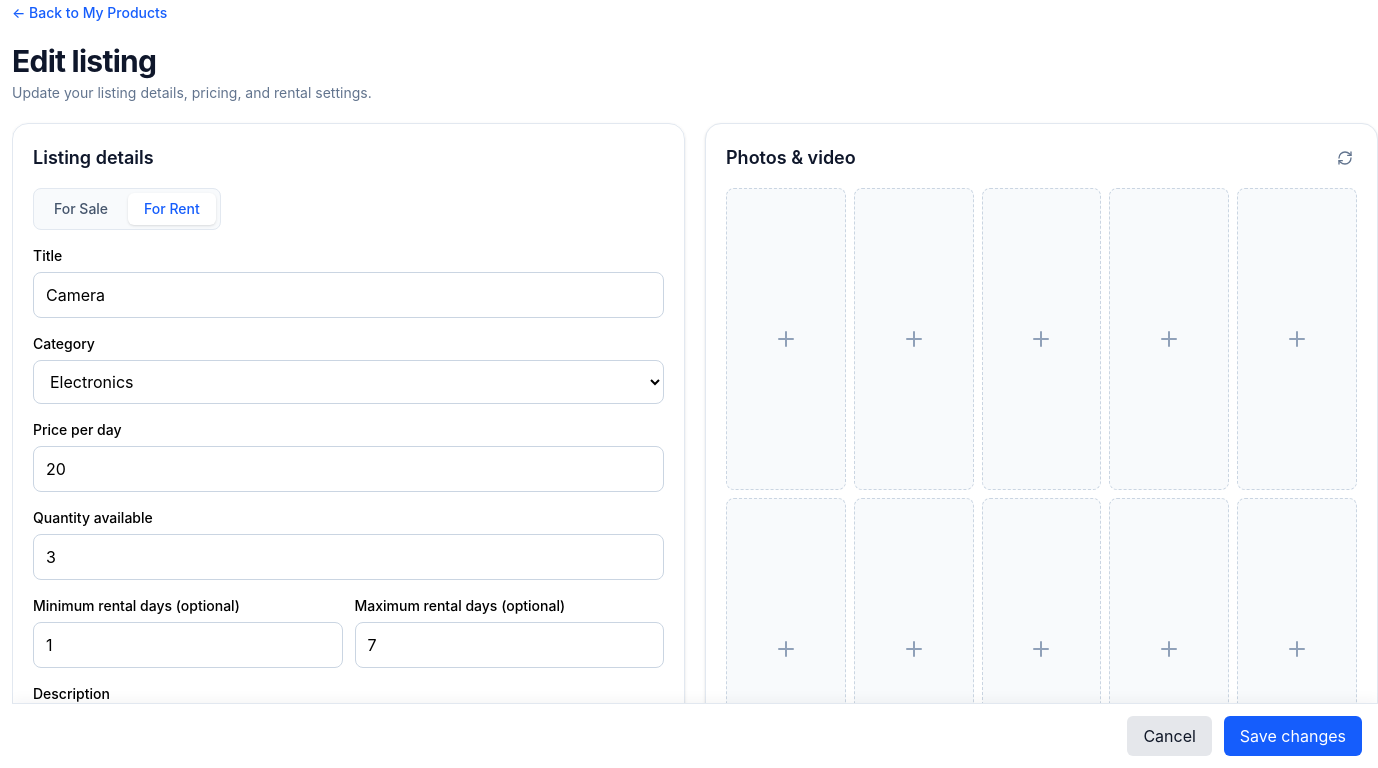
Scenario: shows an API failure without losing form edits
Replace the text in the field labelled "Title" with "Keep this edit" at [348, 295], box top-left (33, 272), bottom-right (664, 318)
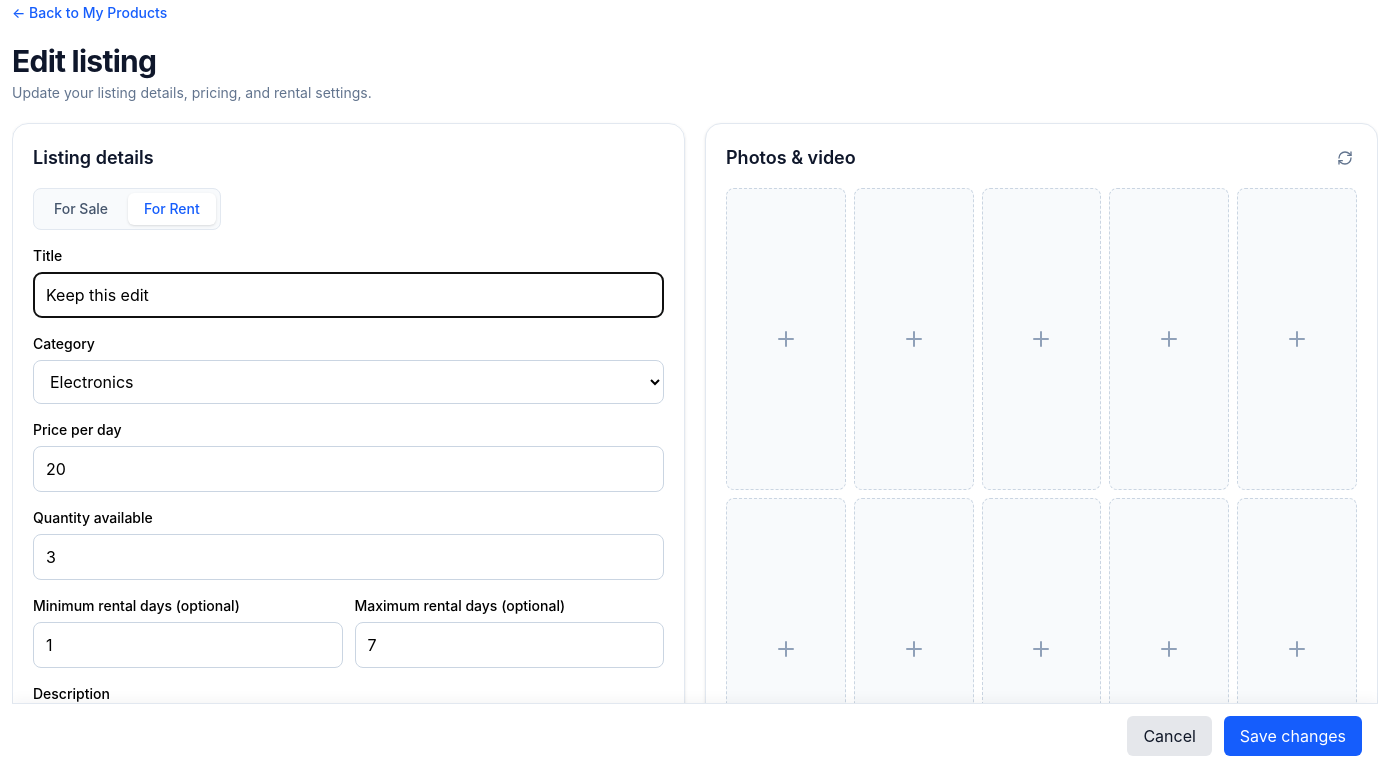
Click the button "Save changes" at [1293, 736], box top-left (1224, 716), bottom-right (1362, 756)
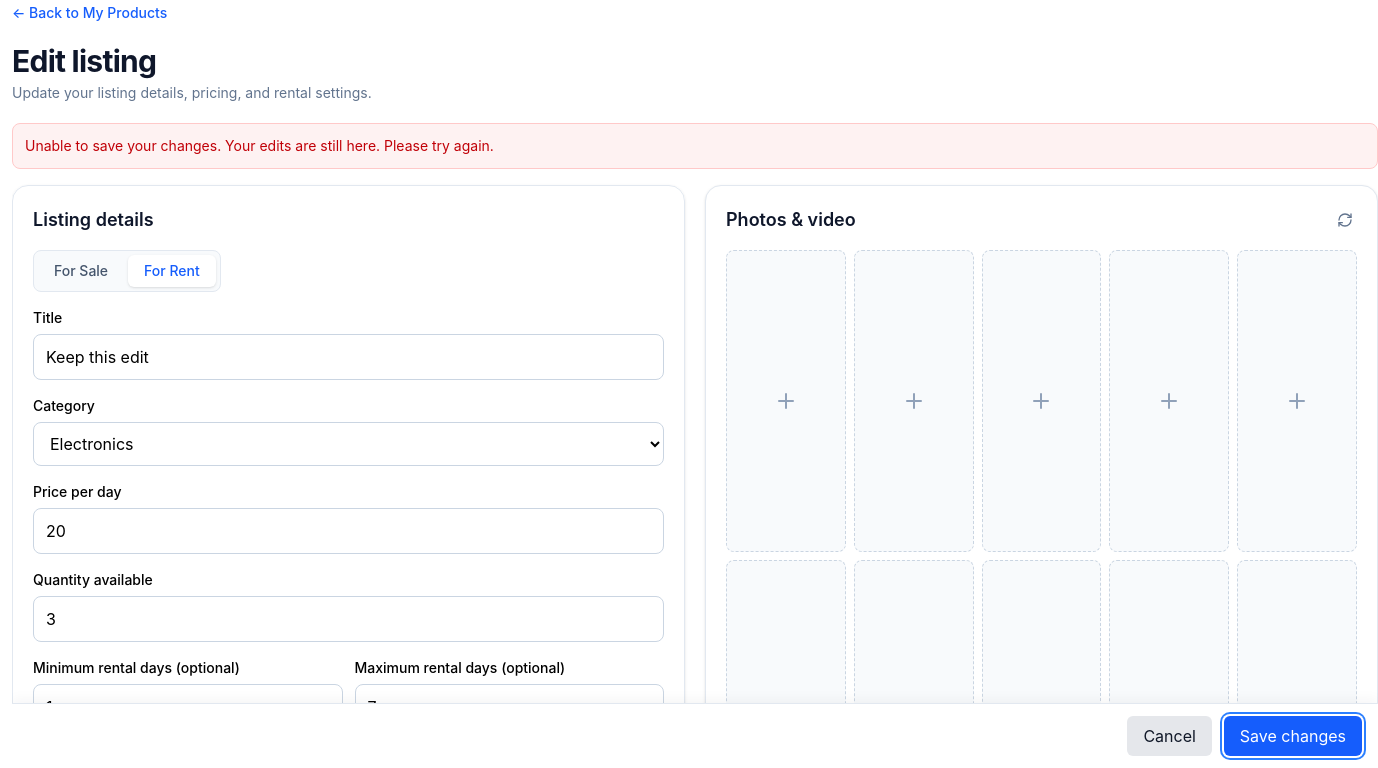
Check: the message shows "Unable to save your changes", box top-left (25, 137), bottom-right (494, 154)
